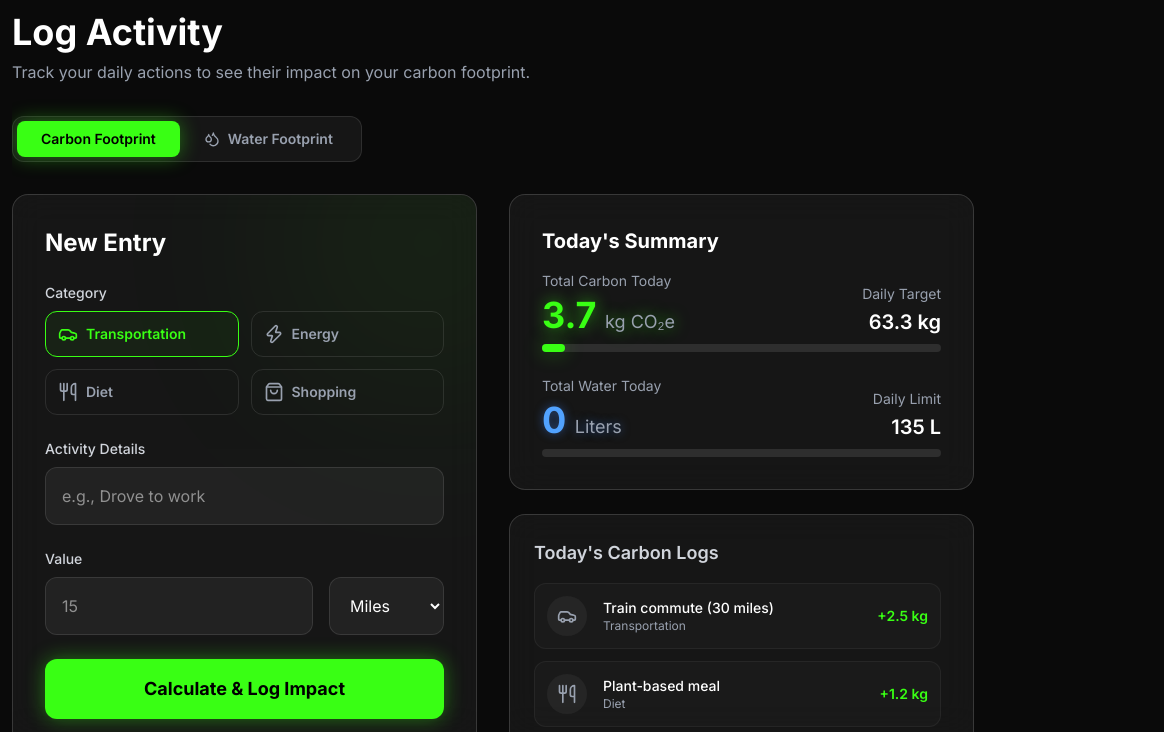
Test: Log Activity Page › Tab switching › switches to water form when Water Footprint tab is clicked
Click the button "Water Footprint": (268, 139) [180,121,357,157]
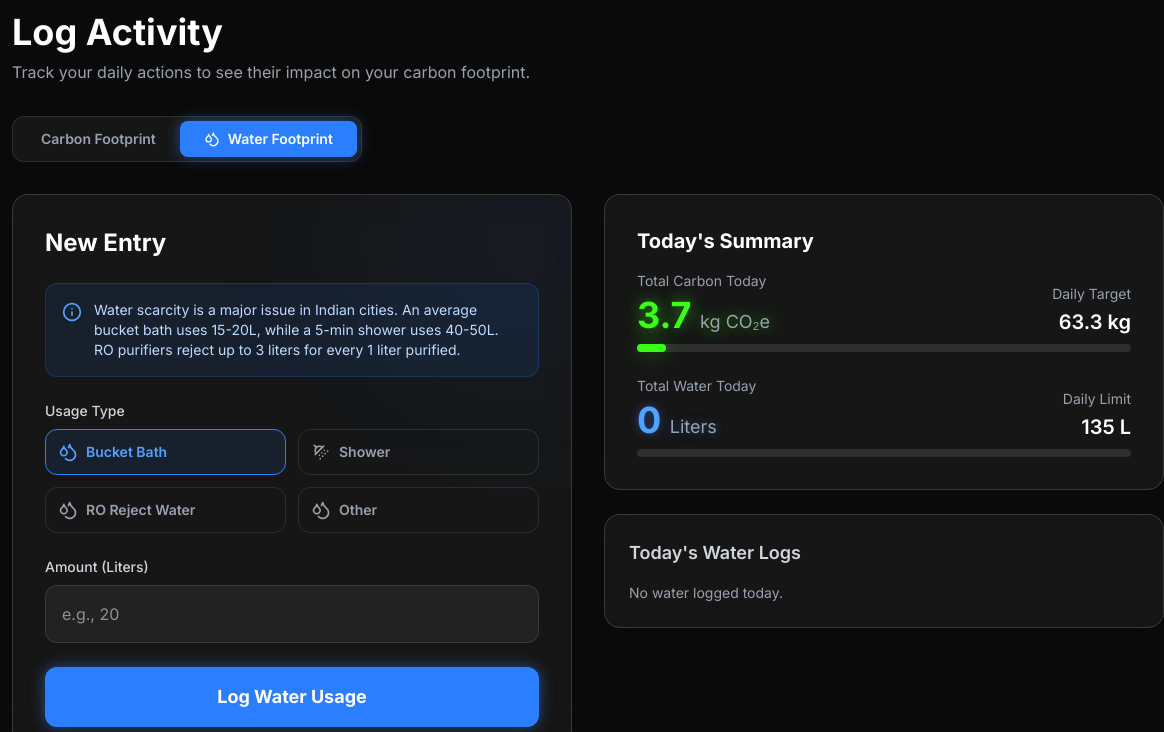
Expected: the number field with id "liters-input" is shown, [45,585,539,643]
